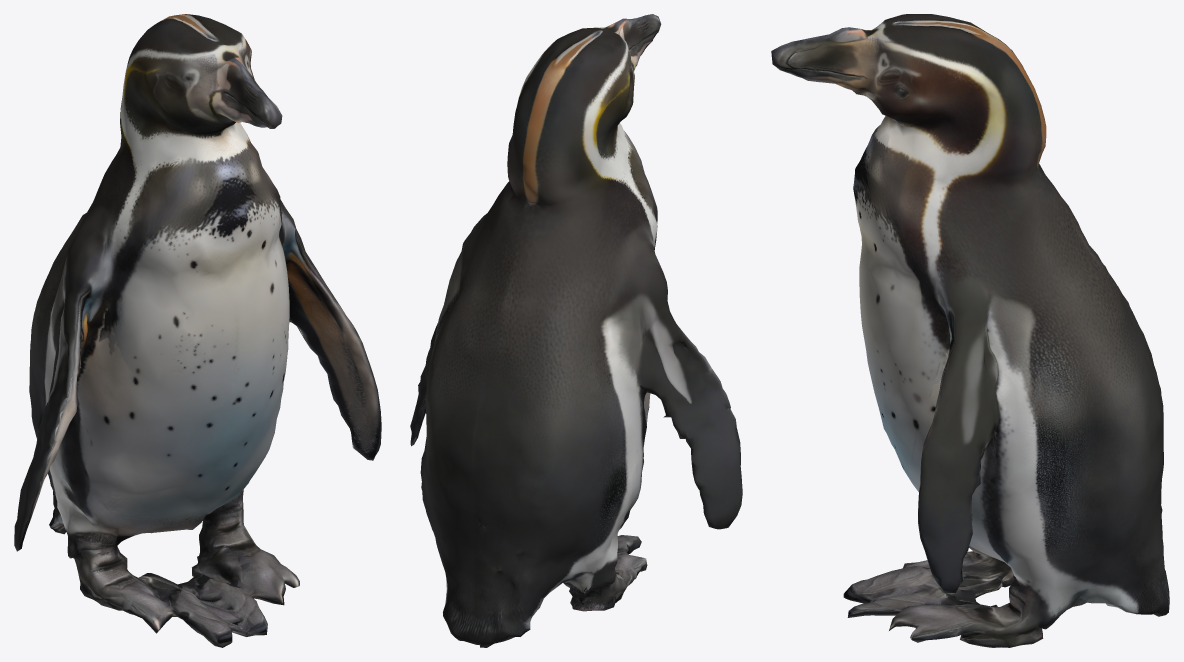
The model's file is นกเพนกว_0521084959_texture.glb.
3 views of the same model, side by side, from view 1: azimuth 30°, elevation 25°; view 2: azimuth 150°, elevation 25°; view 3: azimuth 270°, elevation 25° (orthographic). The views are drawn at different scales.
Size of the model in its own units: 1.29 by 2 by 1.24.
Materials: 1 (1 with a texture image).
